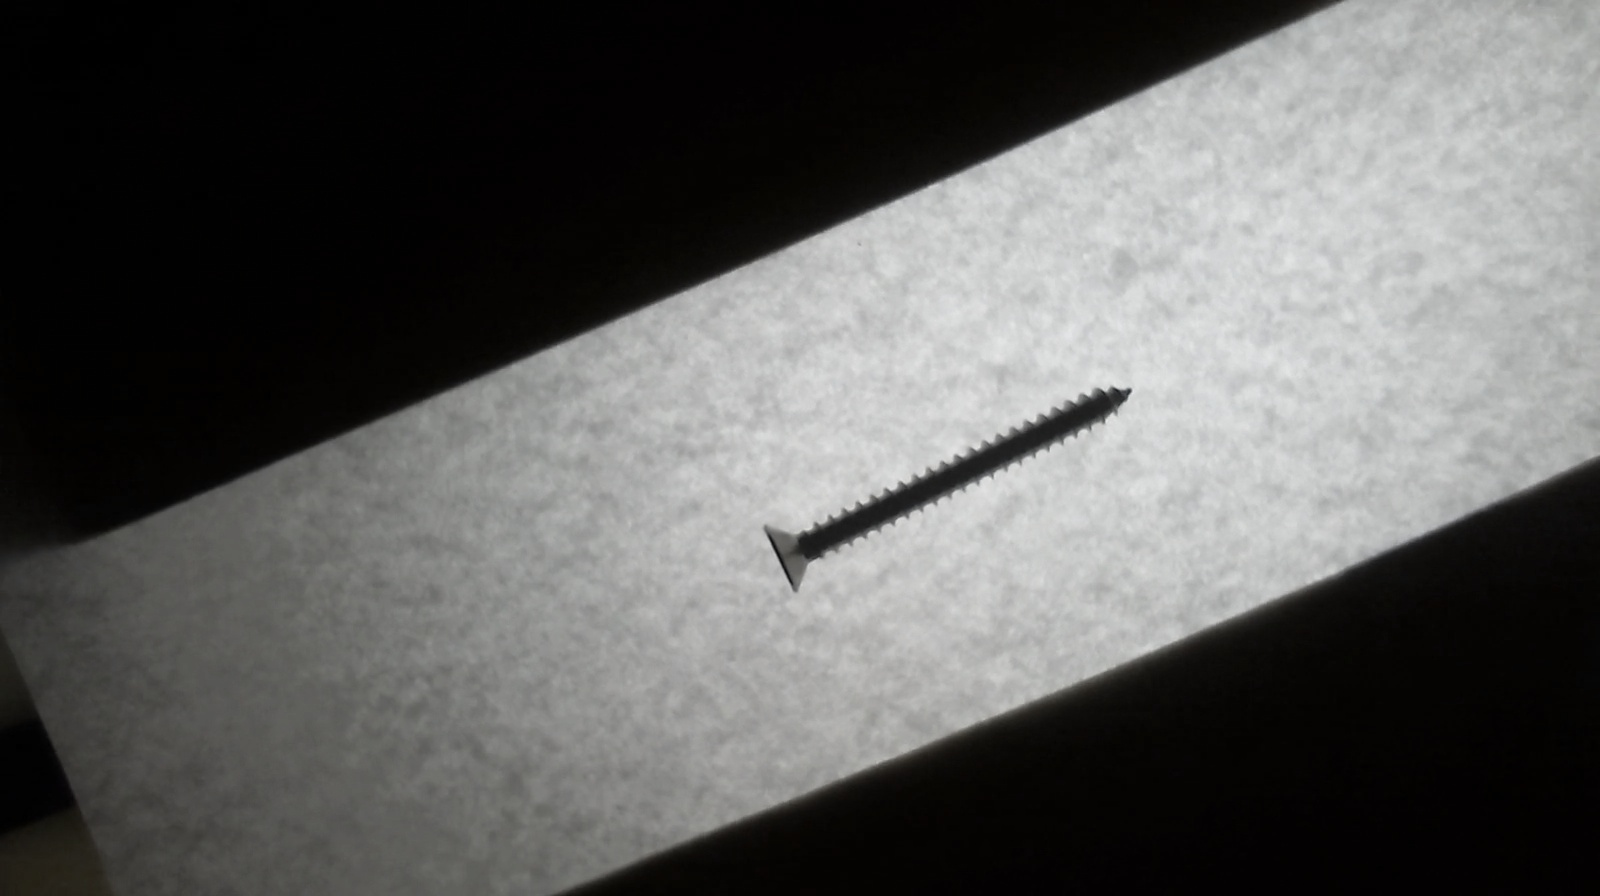S002: (758, 385, 1138, 591)
